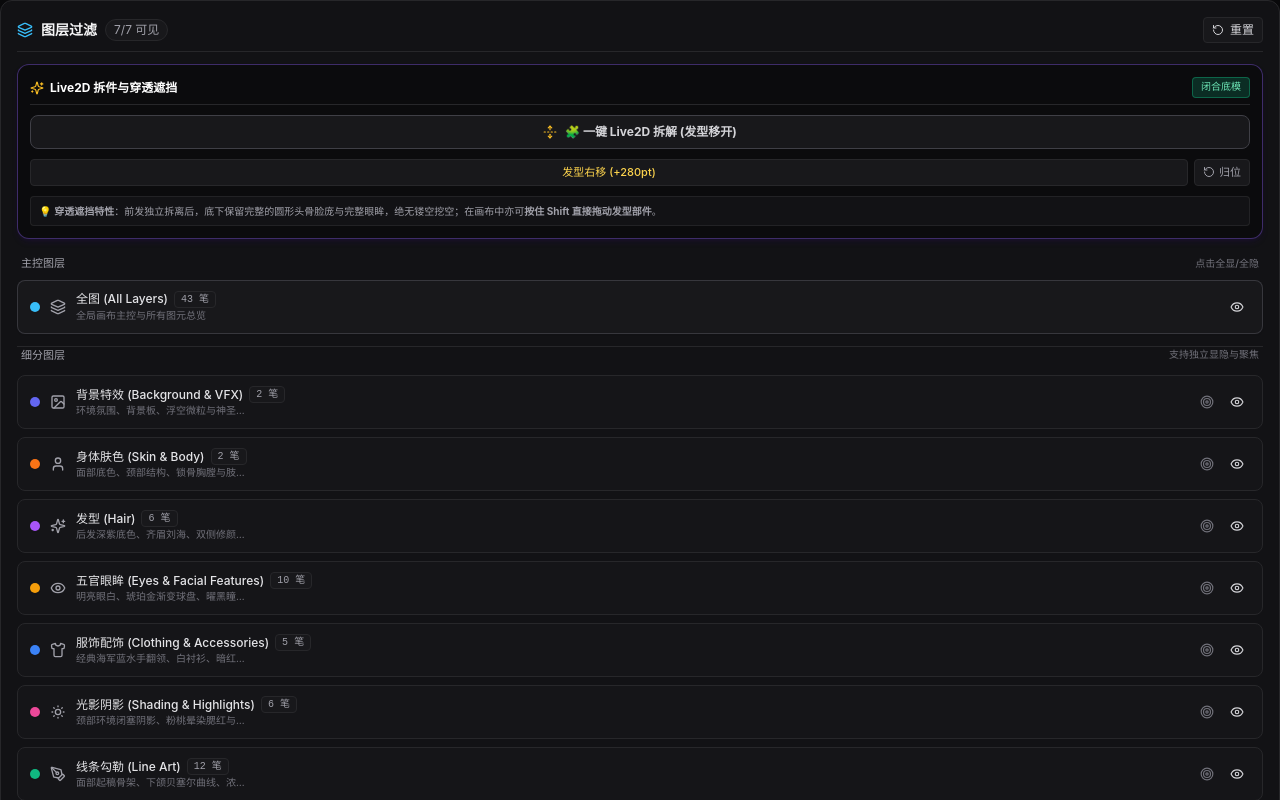
Test: Challenger 2 Iteration 2: Deep Layer State Machine & Solo Isolation Invariant Stress › Section 3: DOM Rendering & VectorCanvas SVG Invariants › UI panel reflects correct badge counts and master card styling when layers toggle
Check: the text "7/7 可见" is shown, box 105,19 -> 168,41
// Toggle hair off
Step 1. Click the button with test id "visibility-toggle-hair" → (1237, 526), box 1224,513 -> 1250,539
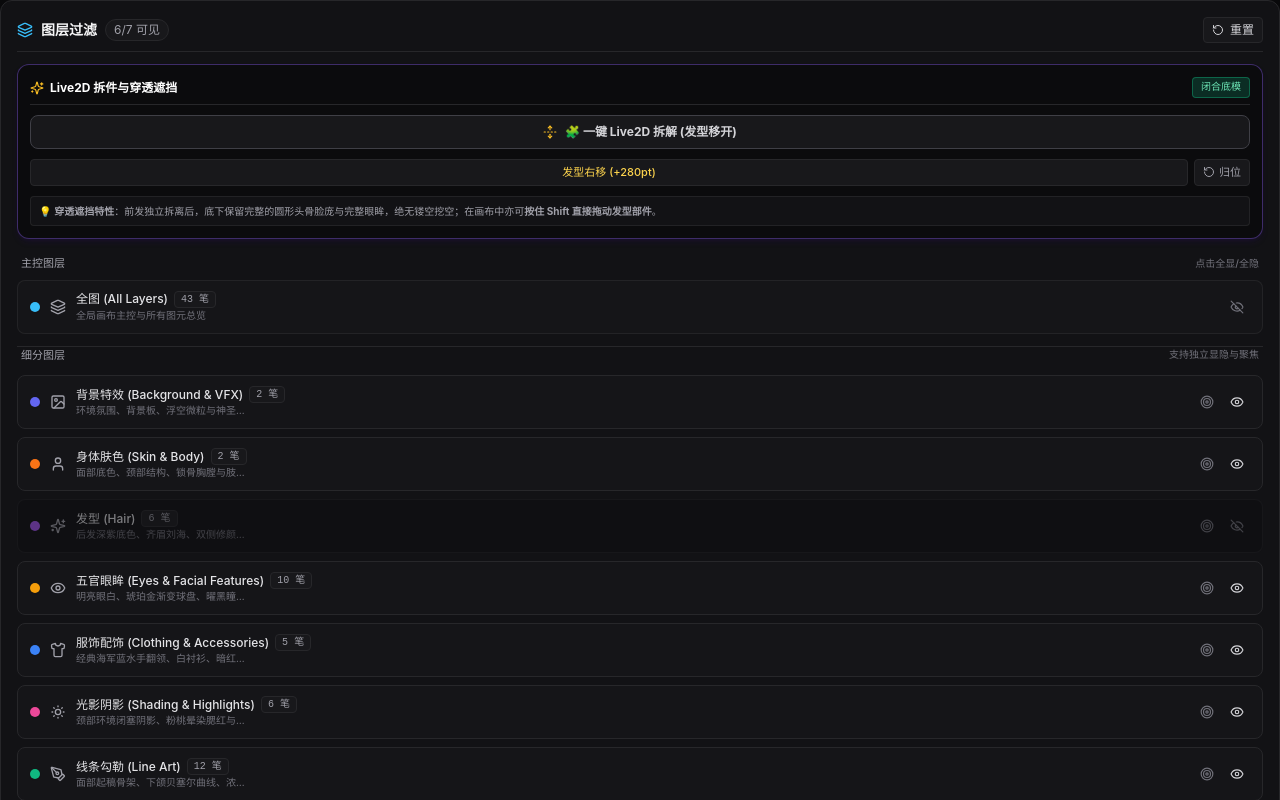
Check: the text "6/7 可见" is shown, box 105,19 -> 169,41
// Click "退出聚焦" button on banner when active
Step 2. Click the button with test id "solo-toggle-iris" → (1207, 588), box 1194,575 -> 1220,601
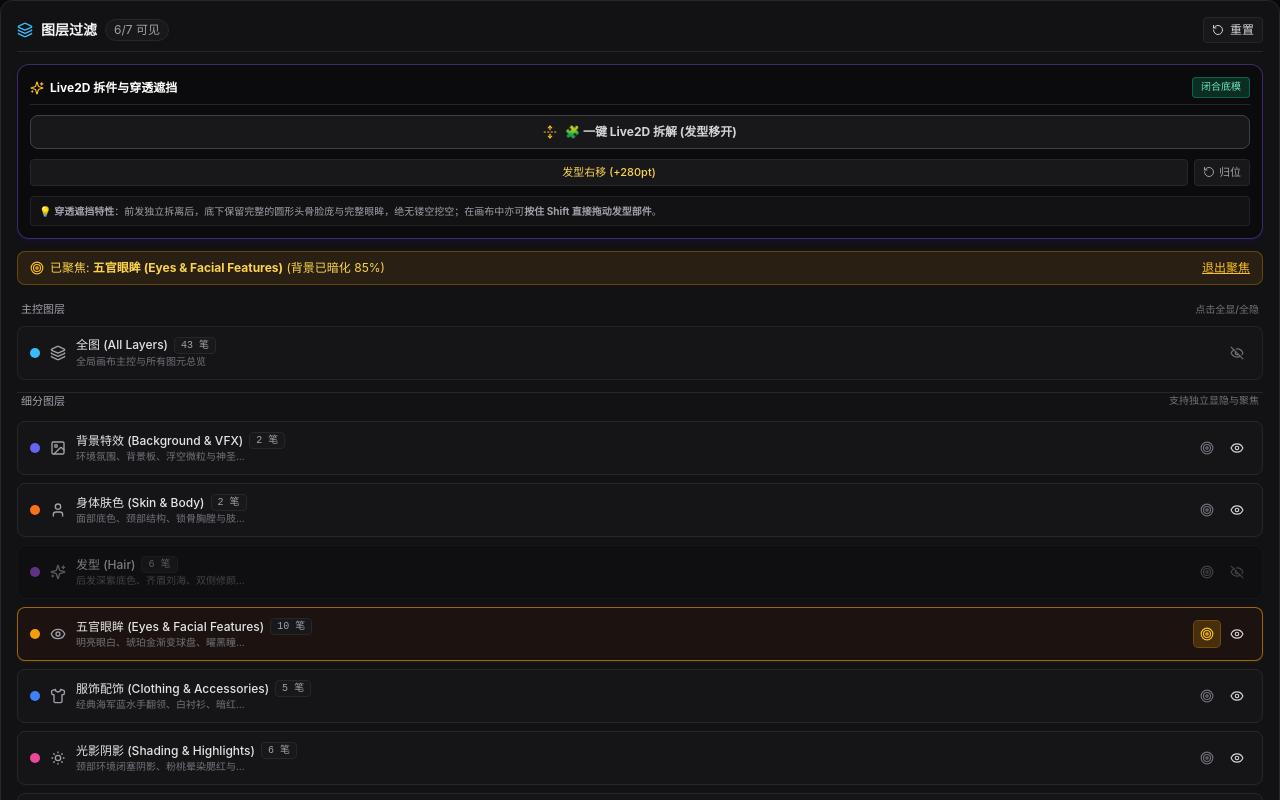
Check: the button with test id "exit-solo-button" is shown
Step 3. Click the button with test id "exit-solo-button" → (1226, 268), box 1202,260 -> 1250,276
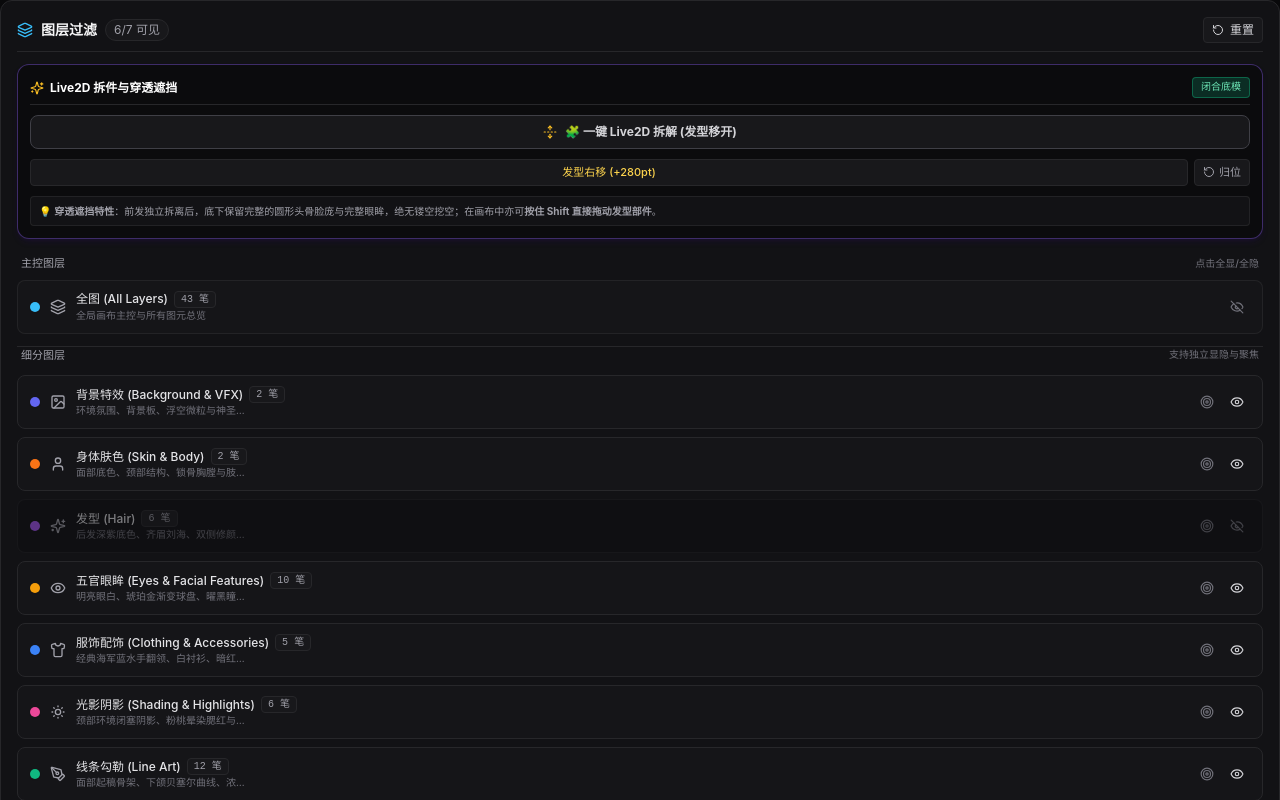
Check: the element with test id "solo-mode-banner" is gone
